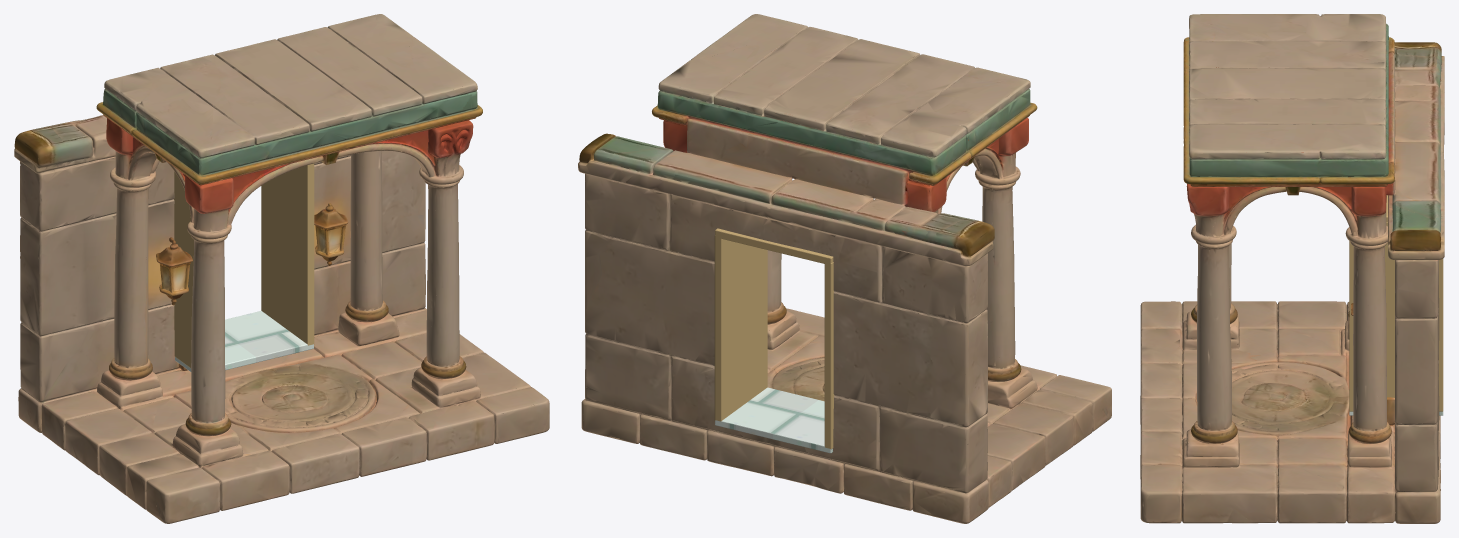
File: act1_pavilion_porch_open.glb
3 renders of one model, left to right at view 1: azimuth 30°, elevation 25°; view 2: azimuth 150°, elevation 25°; view 3: azimuth 270°, elevation 25°, orthographic.
Visible parts, largest first — view 1: model, PorchDoorJamb_R, PorchDoorSill, PorchDoorJamb_L; view 2: model, PorchDoorJamb_R, PorchDoorSill, PorchDoorJamb_L, PorchDoorLintel; view 3: model, PorchDoorJamb_R.
Boxes of the visible parts, bbox=[...] form: model: bbox=[14, 14, 549, 523]; PorchDoorJamb_R: bbox=[261, 163, 314, 345]; PorchDoorSill: bbox=[175, 310, 313, 371]; PorchDoorJamb_L: bbox=[174, 171, 193, 367]; model: bbox=[578, 14, 1111, 523]; PorchDoorJamb_R: bbox=[714, 235, 767, 421]; PorchDoorSill: bbox=[715, 387, 832, 453]; PorchDoorJamb_L: bbox=[824, 262, 834, 449]; PorchDoorLintel: bbox=[715, 228, 833, 263]; model: bbox=[1140, 14, 1444, 523]; PorchDoorJamb_R: bbox=[1349, 222, 1443, 411].
Bounding box in the file's own units: 1.21 × 1 × 0.7925.
3 materials, 2 textured.
